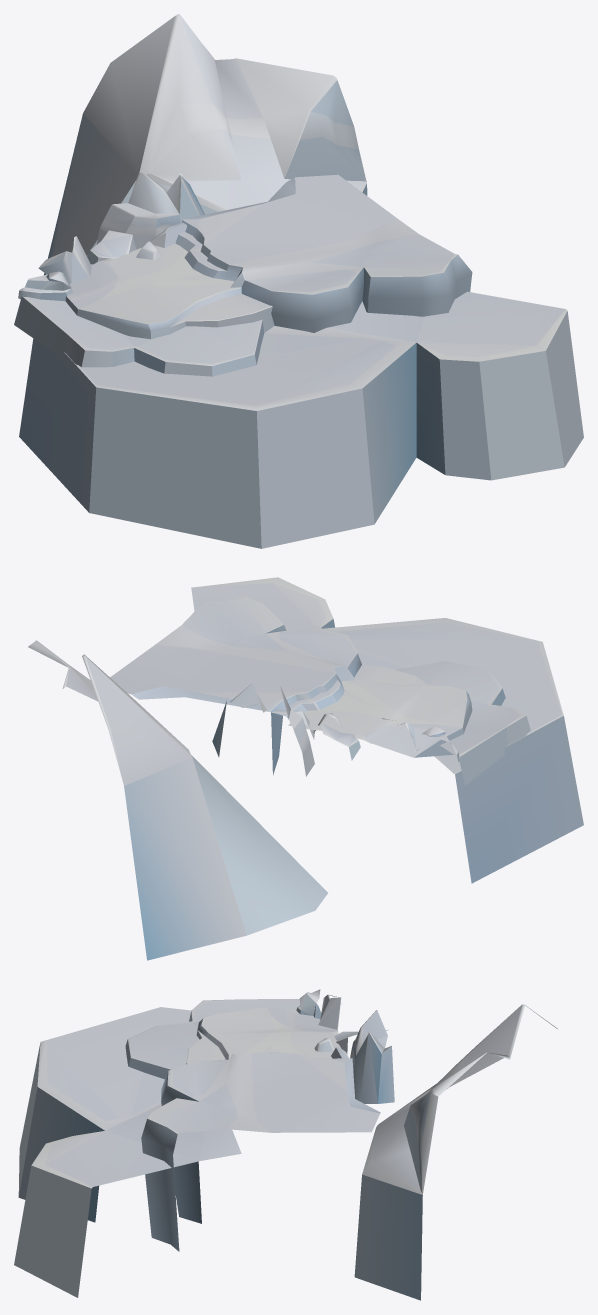
Rendered from iceEntrance_0.glb.
3 renders of one model, top to bottom at view 1: azimuth 30°, elevation 25°; view 2: azimuth 150°, elevation 25°; view 3: azimuth 270°, elevation 25°, orthographic. The views are drawn at different scales.
Parts seen in each view (by area): view 1: iceEntrance; view 2: iceEntrance; view 3: iceEntrance.
Boxes of the visible parts, box(x1,y1,x2,y2) form: iceEntrance: box(14, 14, 583, 548); iceEntrance: box(28, 577, 583, 960); iceEntrance: box(14, 989, 557, 1300).
Size of the model in its own units: 22.32 by 13.12 by 28.17.
